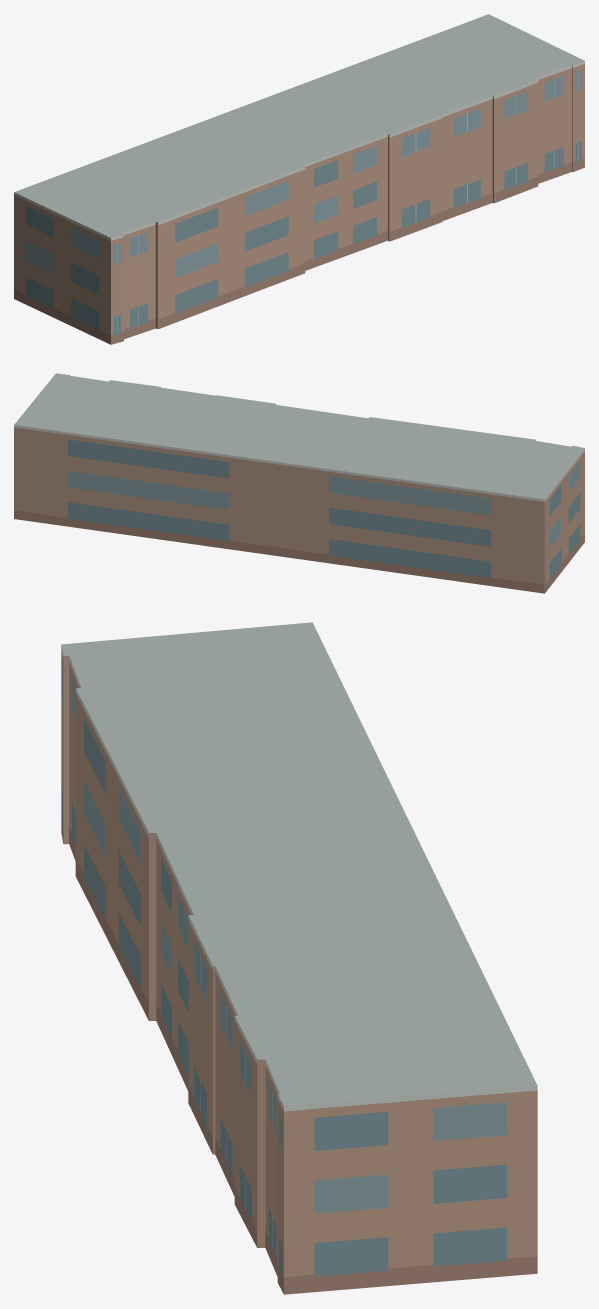
File: survey-upis-32521157.glb
The picture shows the model from 3 angles, top to bottom: view 1: azimuth 30°, elevation 25°; view 2: azimuth 150°, elevation 25°; view 3: azimuth 270°, elevation 25°; orthographic projection. The views are drawn at different scales.
Visible parts, largest first — view 1: survey-upis-32521157.tmp; view 2: survey-upis-32521157.tmp; view 3: survey-upis-32521157.tmp.
Part boxes in pixels (x1=…): survey-upis-32521157.tmp: x1=14, y1=14, x2=584, y2=344; survey-upis-32521157.tmp: x1=14, y1=373, x2=584, y2=593; survey-upis-32521157.tmp: x1=61, y1=622, x2=537, y2=1294.
Bounding box in the file's own units: 50.48 × 9.15 × 20.98.
